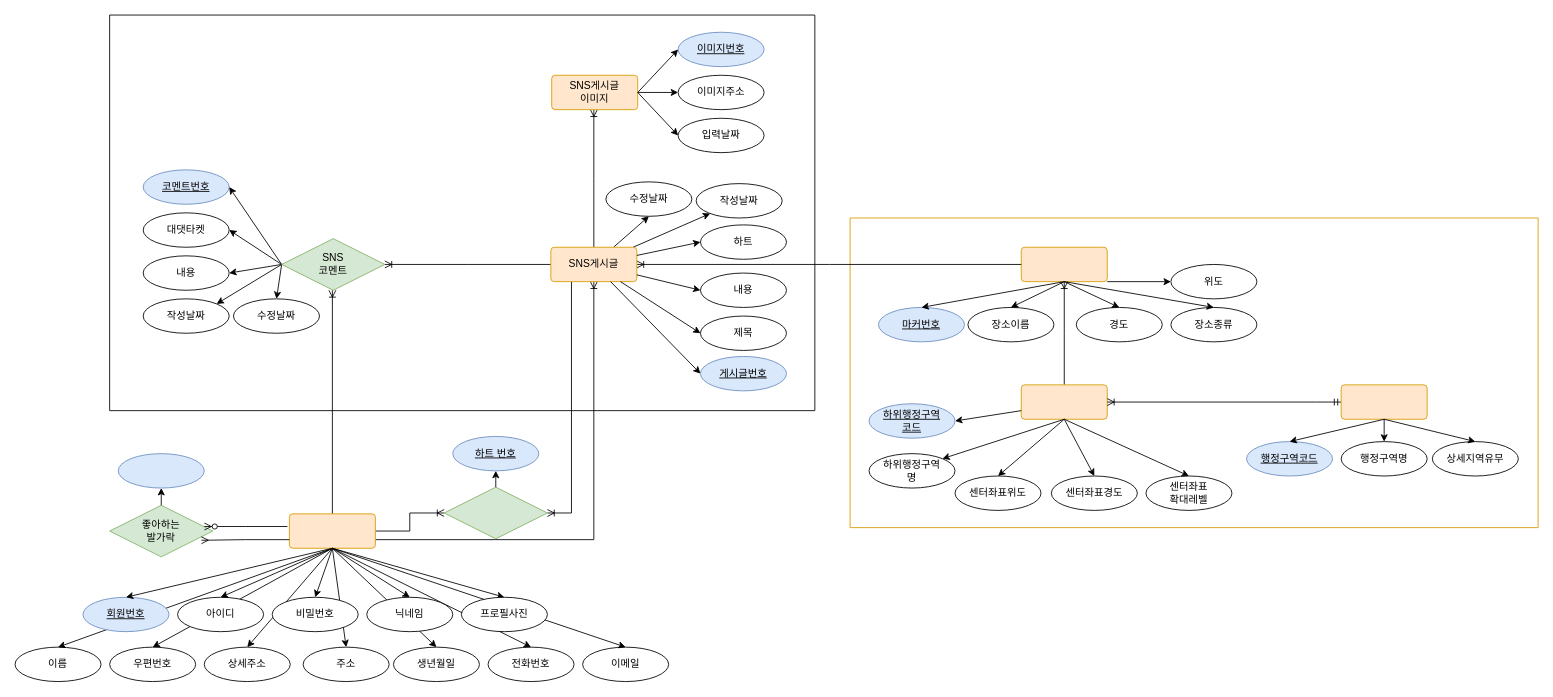
This 1553x697 diagram has some shape labels left out. Each missing label, with the centre of its shape:
API지도 마커데이터: the point at 1063,264
사랑하는 SNS게시글: the point at 495,512
좋아하는 번호: the point at 160,470
하위행정구역: the point at 1063,401
행정구역: the point at 1383,401
회원: the point at 332,530
